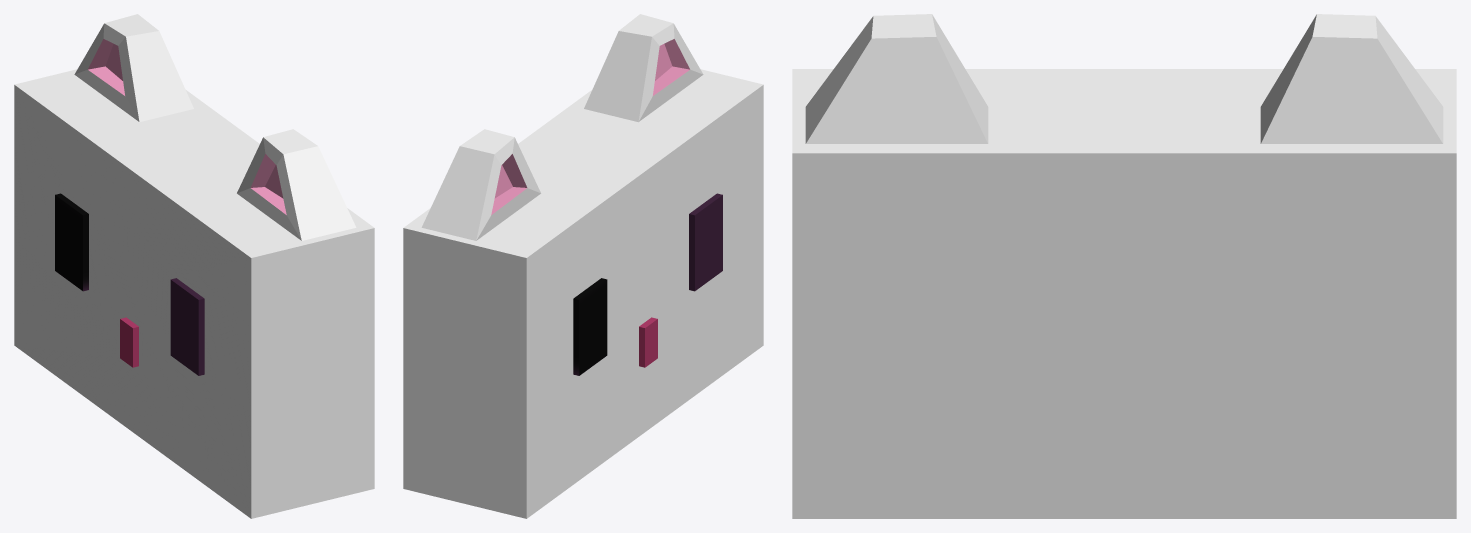
Rendered from cat face model.fbx.
3 renders of one model, left to right at view 1: azimuth 30°, elevation 25°; view 2: azimuth 150°, elevation 25°; view 3: azimuth 270°, elevation 25°, orthographic. The views are drawn at different scales.
Visible parts, largest first — view 1: Cube.001; view 2: Cube.001; view 3: Cube.001.
Boxes of the visible parts, x1=… form: Cube.001: x1=14, y1=14, x2=374, y2=518; Cube.001: x1=403, y1=14, x2=763, y2=518; Cube.001: x1=792, y1=14, x2=1456, y2=518.
Size of the model in its own units: 15.71 by 38.2 by 49.71.
Materials: 1 (1 with a texture image).
